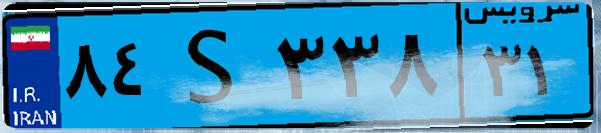1: (525, 38, 570, 115)
3: (270, 28, 330, 110), (330, 28, 385, 110), (475, 38, 525, 113)
4: (110, 28, 158, 98)
8: (385, 28, 445, 110), (57, 26, 110, 100)
S: (158, 12, 270, 120)
